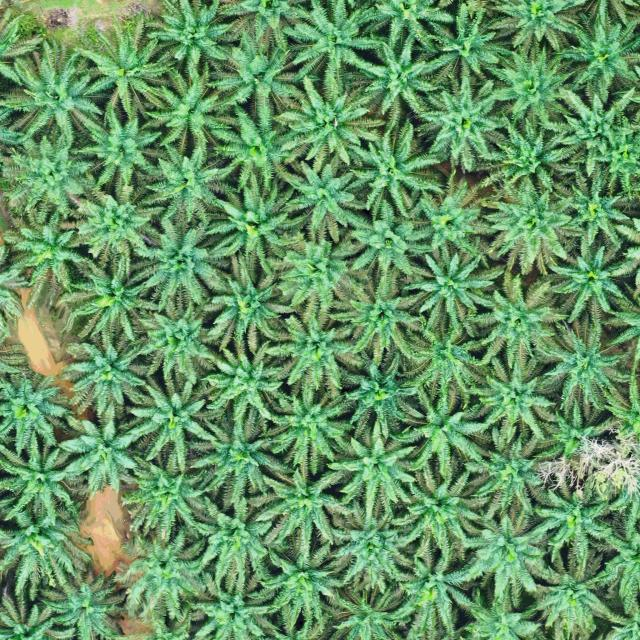Tree: (382, 371, 499, 487), (468, 168, 586, 278), (389, 456, 494, 575), (258, 289, 368, 397), (67, 14, 179, 120), (201, 164, 311, 271), (464, 272, 573, 379), (125, 212, 232, 320), (271, 74, 385, 175), (348, 15, 448, 130), (198, 25, 306, 131), (324, 260, 429, 368), (449, 498, 555, 600), (118, 367, 220, 472), (404, 71, 509, 173), (0, 125, 102, 229), (254, 461, 359, 562), (0, 202, 93, 316), (335, 194, 445, 290), (186, 411, 288, 514), (197, 257, 298, 361), (208, 94, 309, 196), (458, 424, 561, 524), (139, 65, 240, 166), (253, 538, 355, 638), (319, 417, 416, 521), (532, 316, 627, 422), (0, 54, 106, 149), (526, 235, 639, 324), (349, 122, 447, 224), (400, 239, 497, 341), (528, 545, 632, 640), (409, 166, 508, 265), (59, 245, 160, 342), (278, 156, 379, 252), (70, 103, 166, 204), (109, 530, 212, 624), (118, 448, 214, 547), (385, 548, 488, 640), (139, 136, 239, 230), (188, 490, 278, 594), (550, 3, 640, 106), (324, 502, 421, 596), (52, 404, 145, 502), (60, 332, 161, 421), (421, 0, 519, 91), (478, 110, 578, 198), (460, 350, 560, 438), (277, 0, 385, 81), (133, 291, 223, 388), (483, 36, 579, 126), (199, 334, 287, 432), (0, 430, 84, 532), (0, 515, 95, 604), (551, 82, 640, 177), (72, 188, 172, 272), (526, 481, 621, 568), (258, 383, 353, 470), (339, 351, 425, 442), (29, 565, 129, 640), (556, 168, 634, 262), (270, 235, 353, 323), (403, 317, 481, 409), (141, 0, 239, 73), (534, 401, 622, 482), (0, 369, 77, 460), (184, 569, 279, 640), (447, 580, 543, 640), (325, 579, 416, 640)
